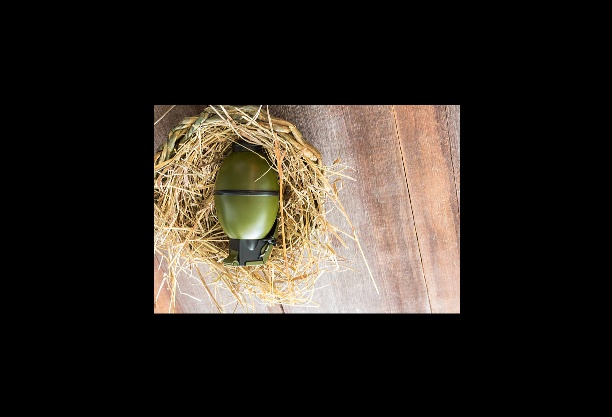e1: (204, 132, 299, 272)
